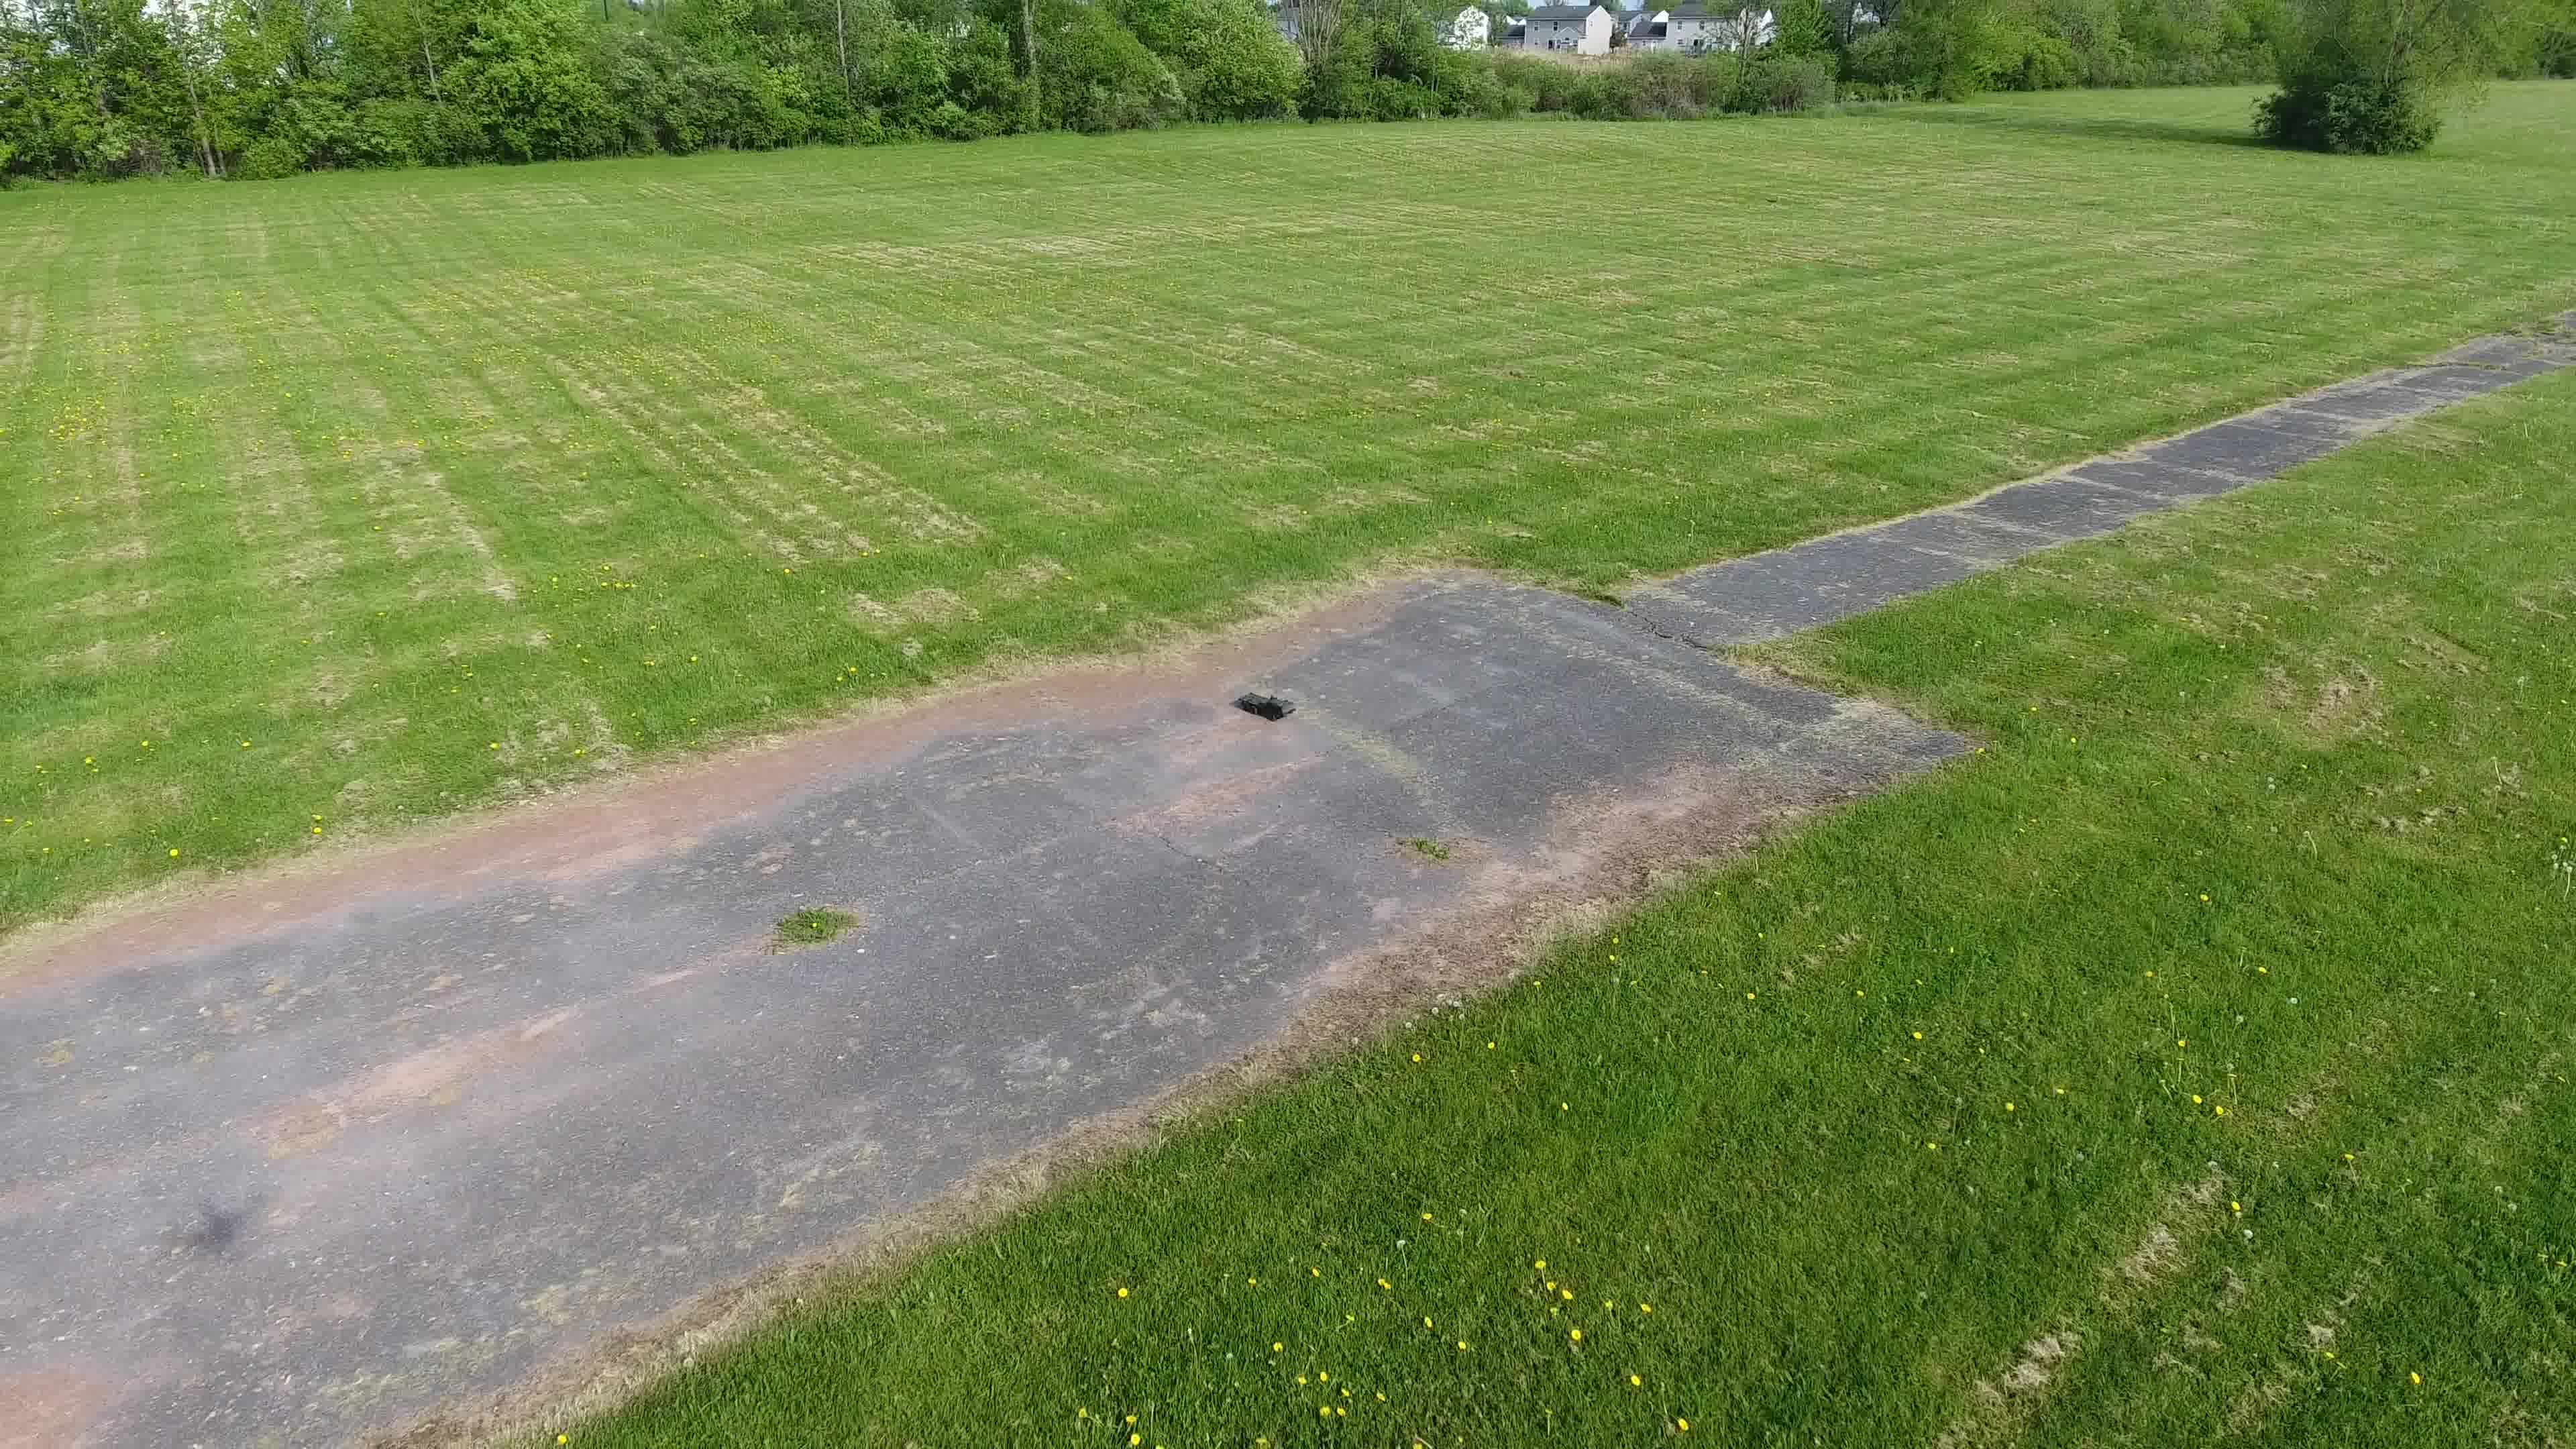transporter9_camo: (1237, 690, 1300, 724)
